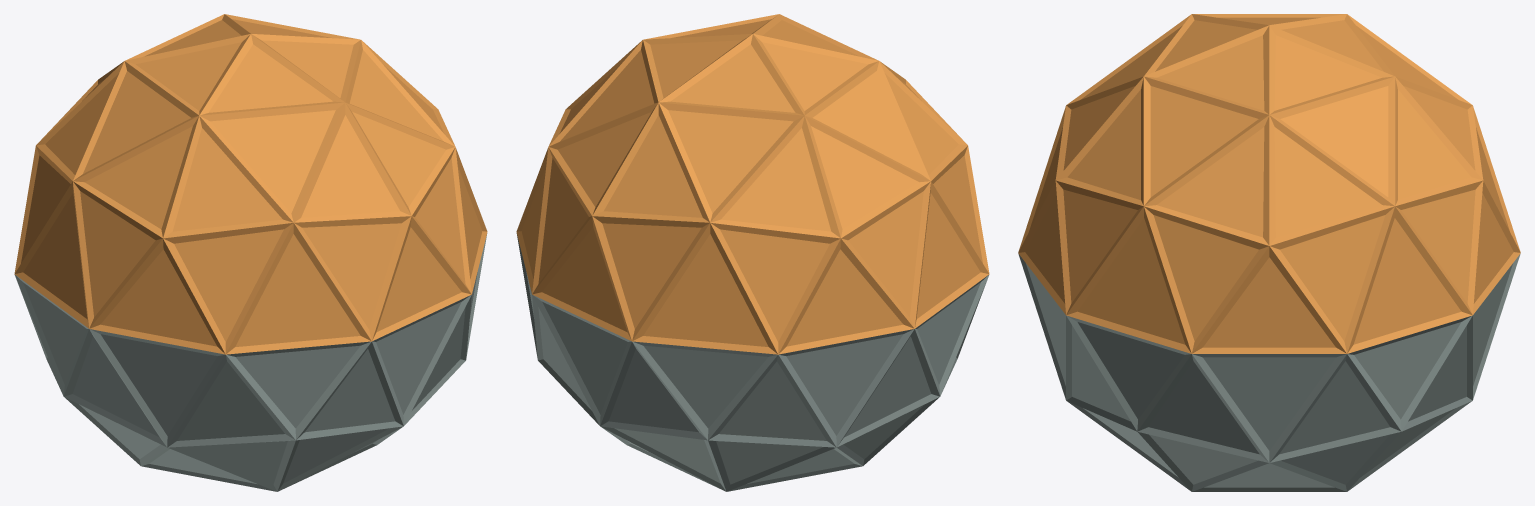
Rendered from skills-core.glb.
3 views of the same model, side by side, from view 1: azimuth 30°, elevation 25°; view 2: azimuth 150°, elevation 25°; view 3: azimuth 270°, elevation 25° (orthographic). The views are drawn at different scales.
Visible parts, largest first — view 1: SkillsCore; view 2: SkillsCore; view 3: SkillsCore.
Part boxes in pixels (bbox=[...]): SkillsCore: bbox=[14, 14, 487, 491]; SkillsCore: bbox=[516, 14, 989, 491]; SkillsCore: bbox=[1018, 14, 1520, 491].
Size of the model in its own units: 4.47 by 4.7 by 4.7.
